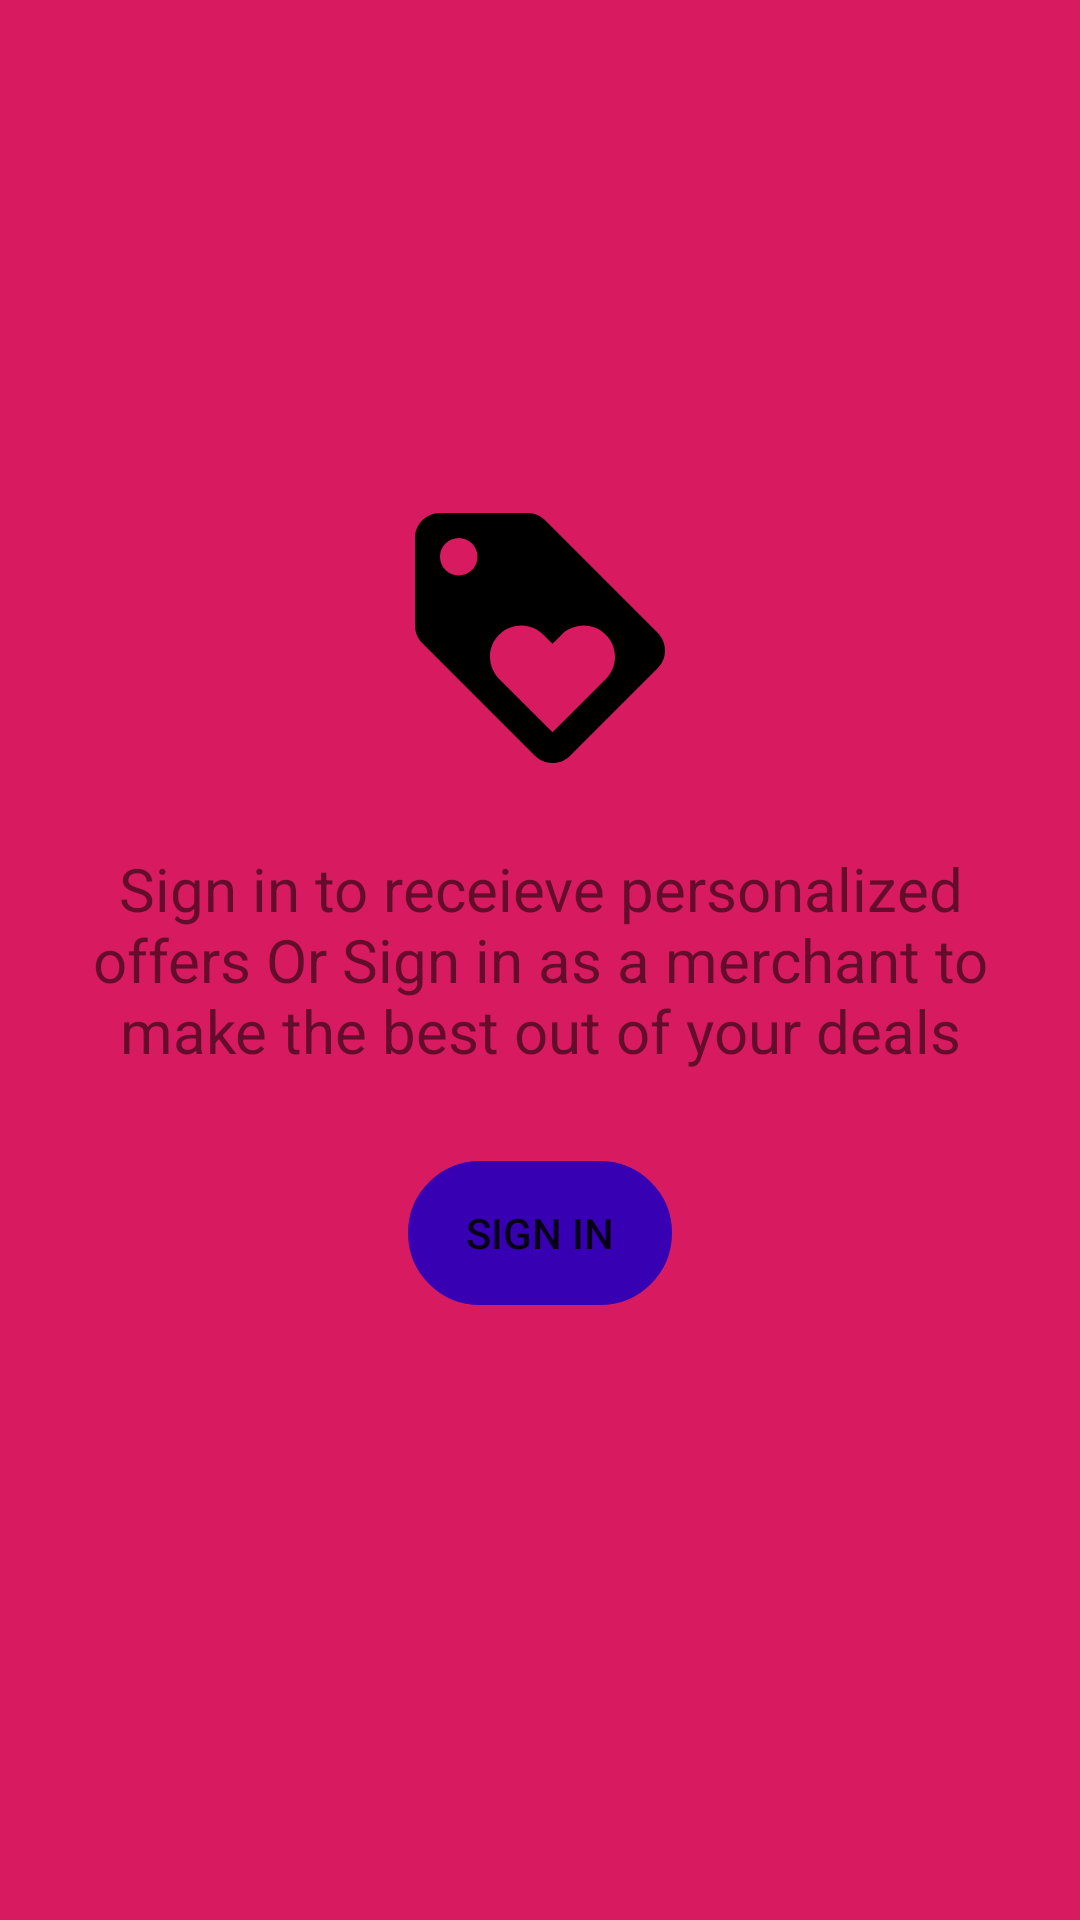

Where to tap for icons on this 1080x1920 app screen, as (x,y):
loyalty: (540,638)
